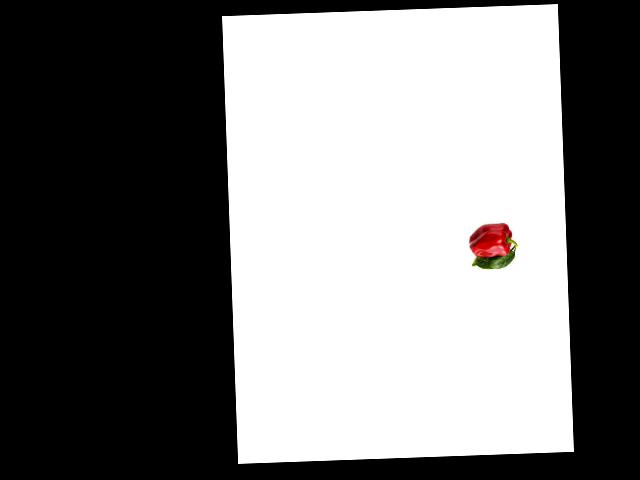bell_pepper: (466, 218, 517, 260)
